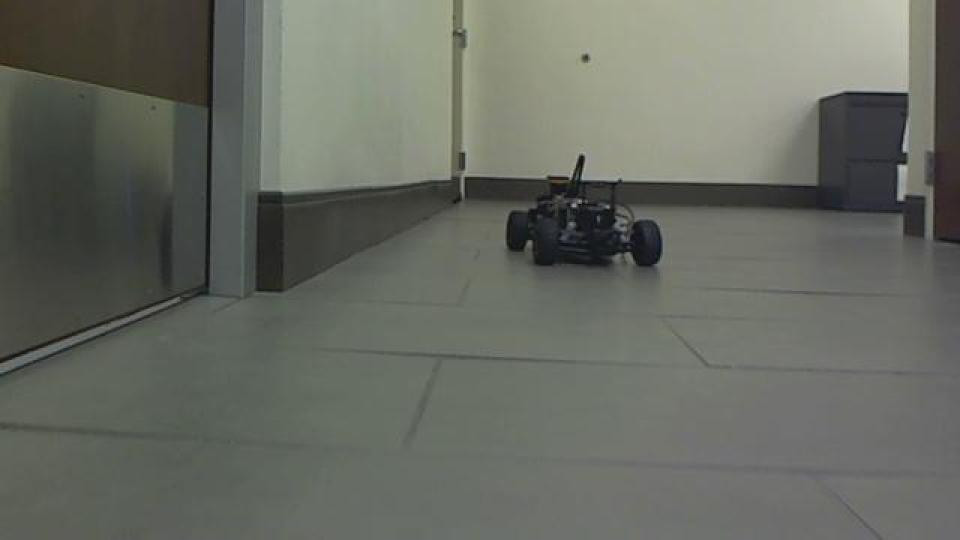car: (501, 152, 665, 270)
